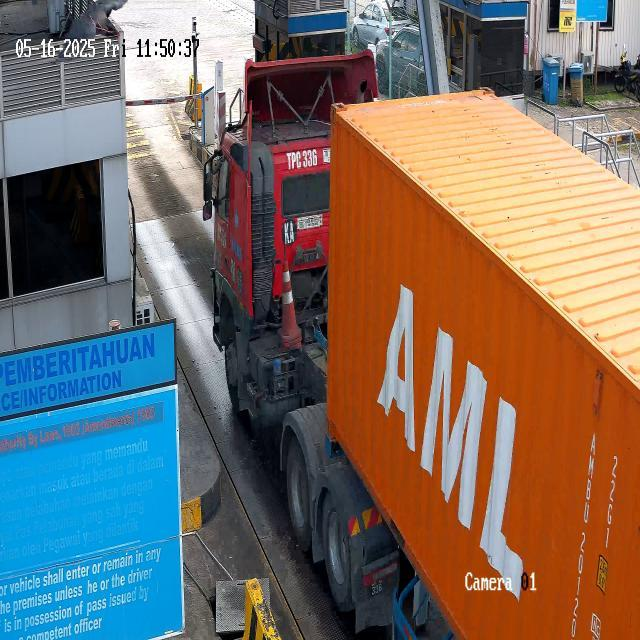ISO: (600, 453, 624, 548)
container_number: (565, 430, 605, 640)
